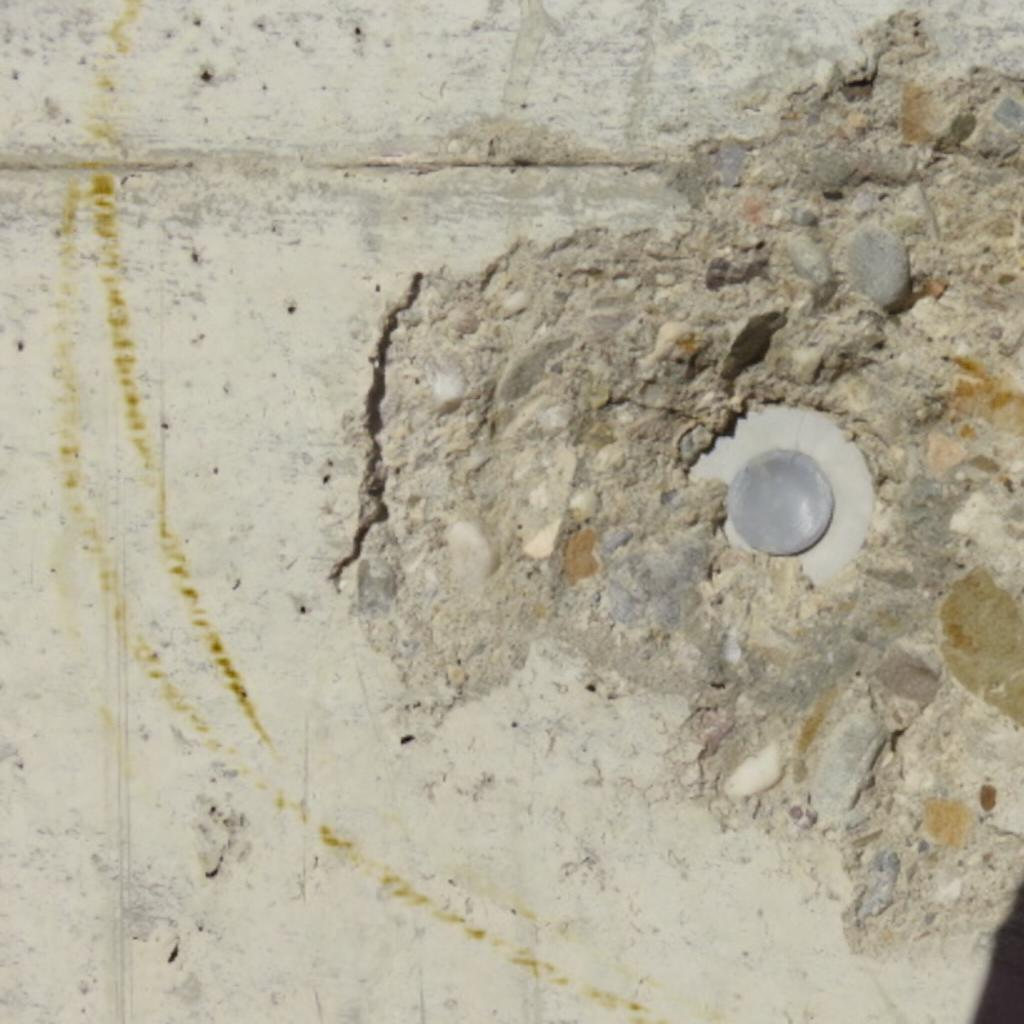spalling: (352, 16, 1024, 946)
